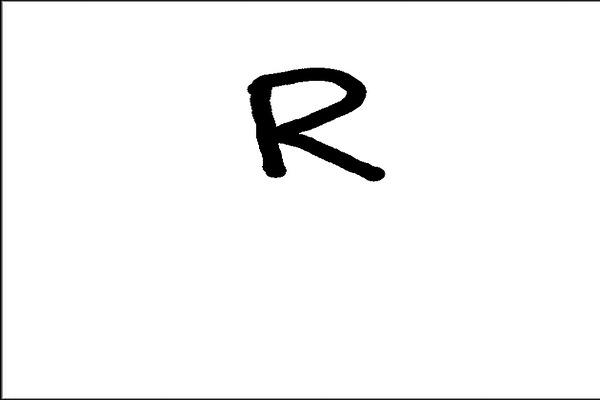R: (240, 63, 389, 193)
